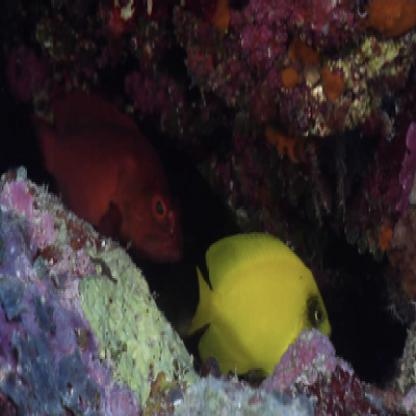grouper: (28, 80, 187, 270)
